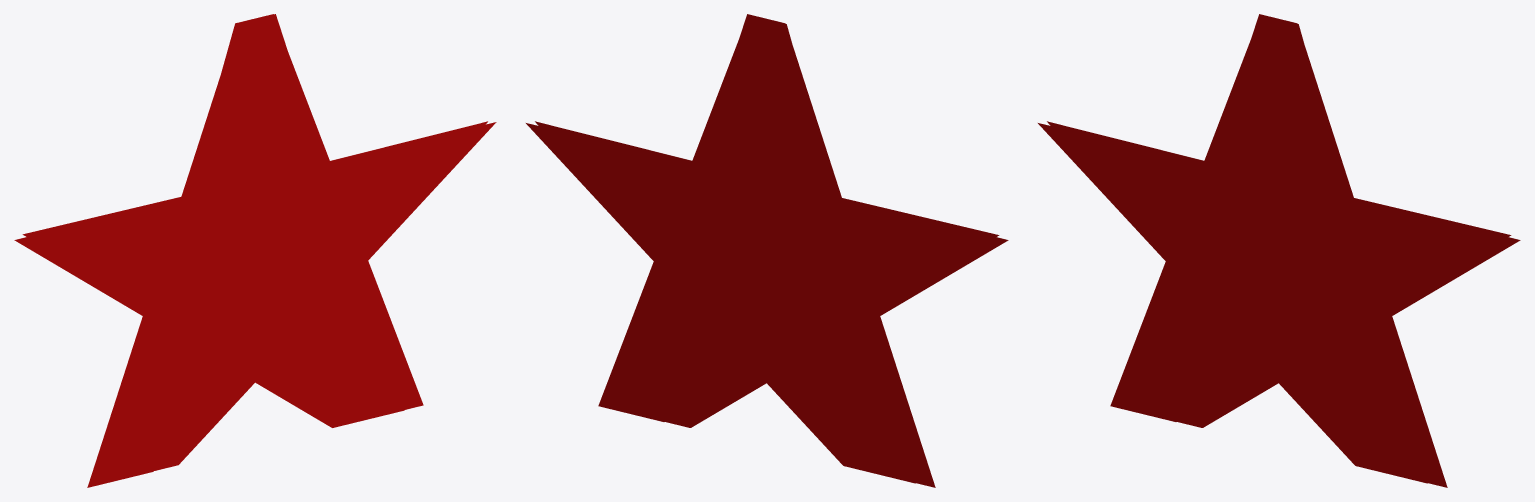
The model's file is kamunoNonPositionalVillager(r).obj.
3 renders of one model, left to right at view 1: azimuth 30°, elevation 25°; view 2: azimuth 150°, elevation 25°; view 3: azimuth 330°, elevation 25°, orthographic.
Parts seen in each view (by area): view 1: Plane.002_Plane.006; view 2: Plane.002_Plane.006; view 3: Plane.002_Plane.006.
Boxes of the visible parts, x1,y1,x2,y2 form: Plane.002_Plane.006: (14,14,496,487); Plane.002_Plane.006: (526,14,1008,487); Plane.002_Plane.006: (1038,14,1520,487).
Bounding box in the file's own units: 0.5934 × 0.5024 × 0.00114.
